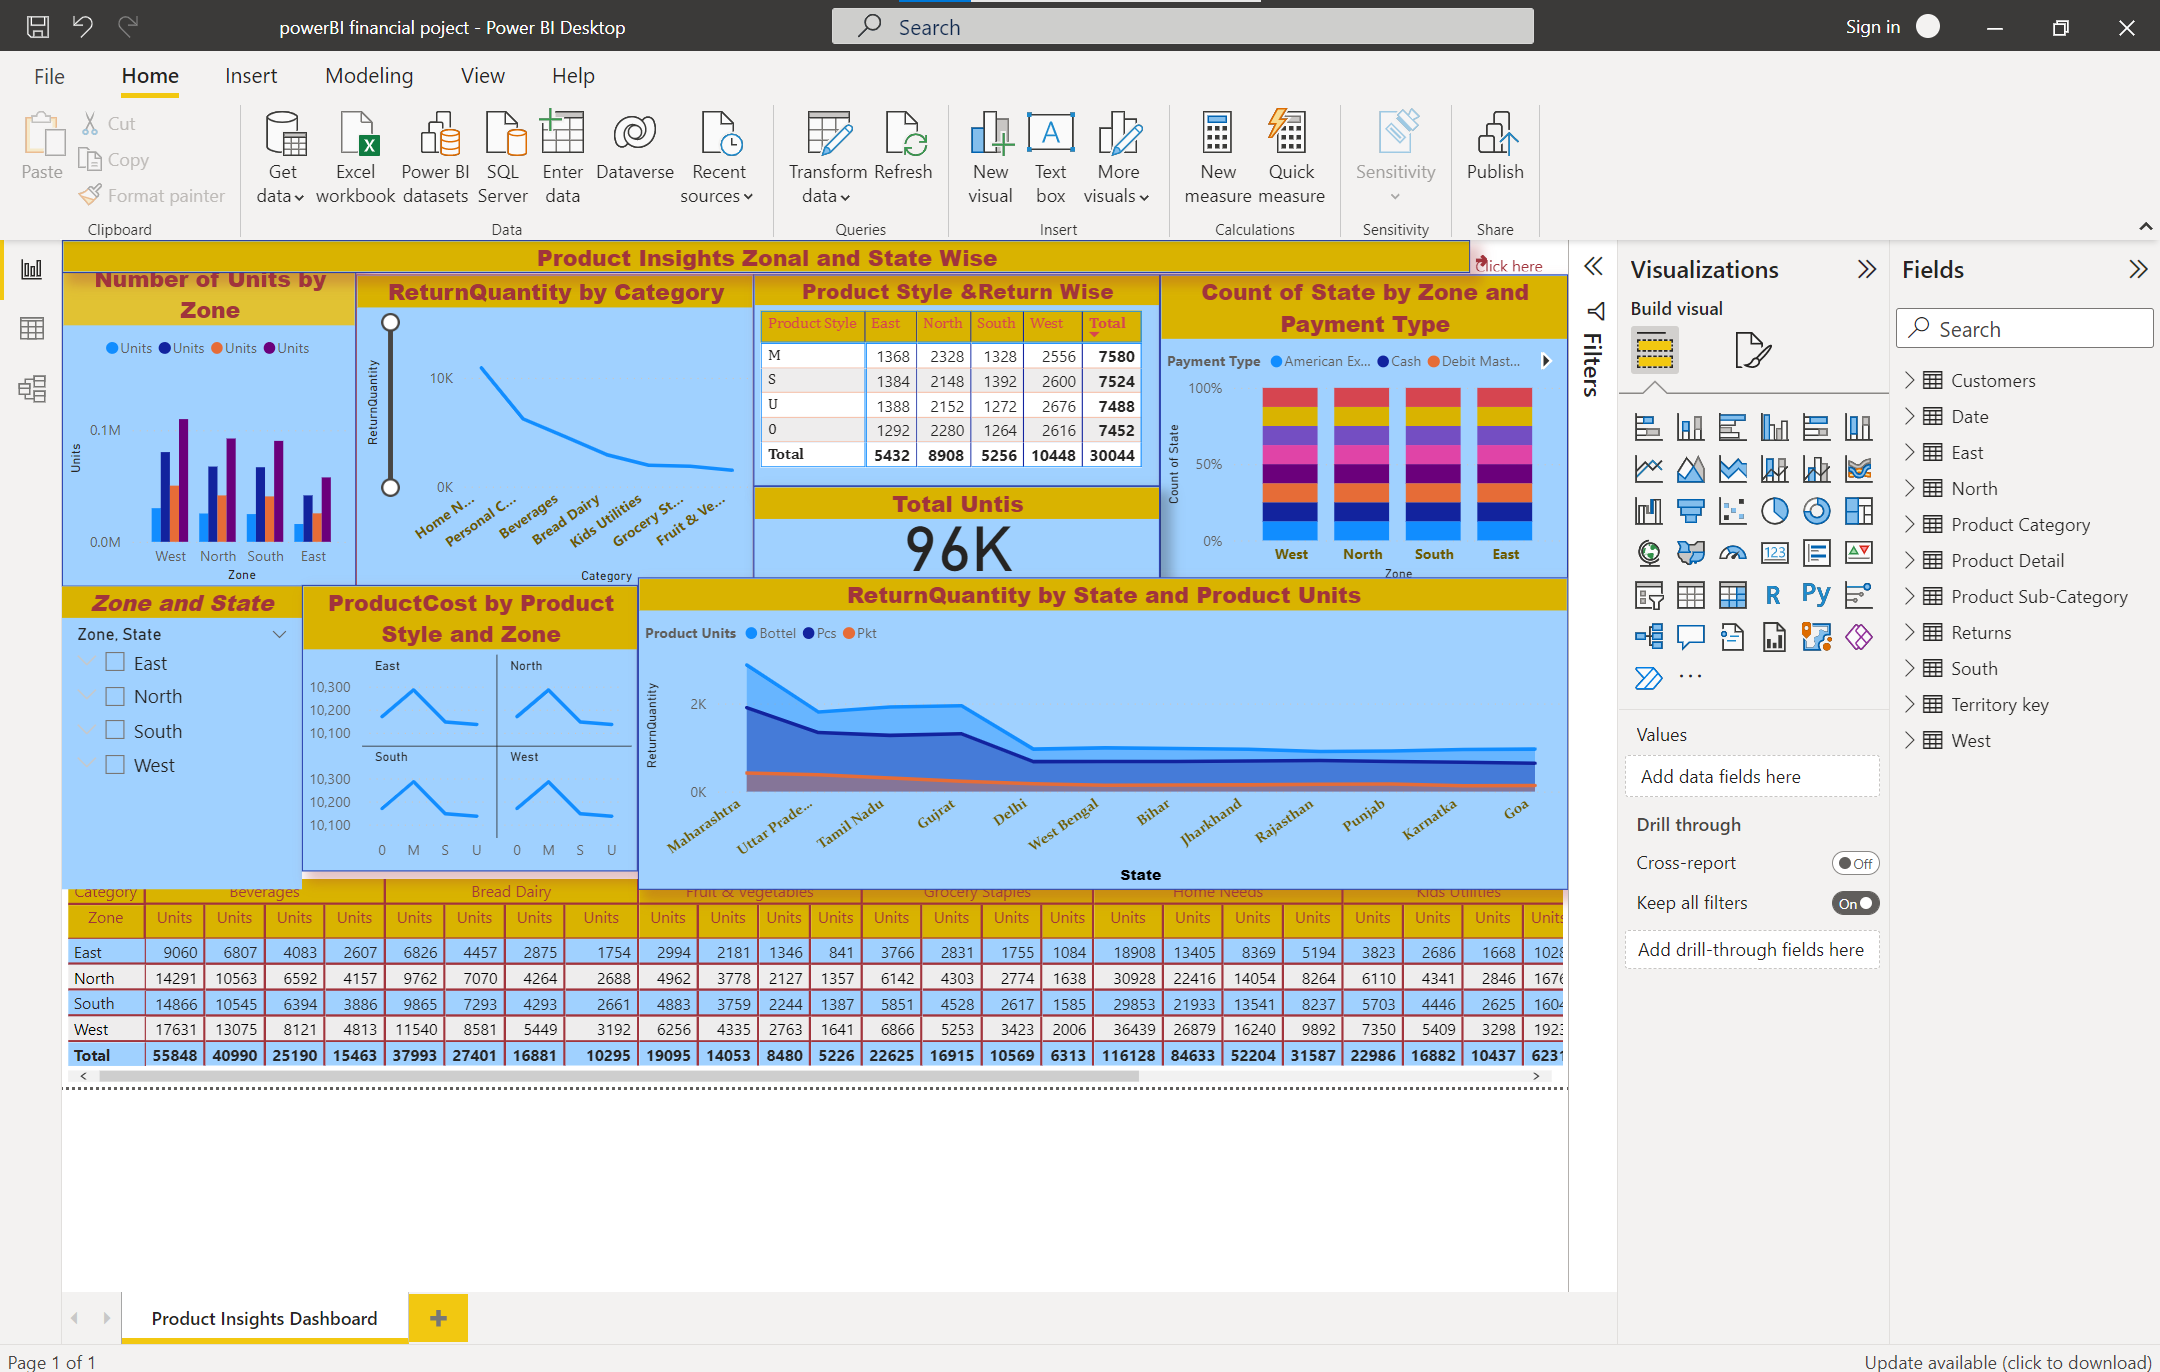

Layout of this report page (visuals, bound fields, positions):
{"tool":"powerbi","page":{"name":"Product  Insights Dashboard","canvas":[1280,720],"ordinal":0},"visuals":[{"type":"clusteredColumnChart","title":"Number of  Units by Zone","fields":{"Category":["Territory key.Zone"],"Y":["Sum(East.Units)","Sum(North.Units)","Sum(South.Units)","Sum(West.Units)"]},"box":[0,29.3,258.8,265.2],"z":0},{"type":"lineChart","fields":{"Y":["Sum(Returns.ReturnQuantity)"],"Category":["Product Category.Category"]},"box":[258.8,29.3,328.9,265.2],"z":1000},{"type":"pivotTable","title":"Product Style &Return Wise","fields":{"Rows":["Product Detail.Product Style"],"Values":["Sum(Returns.ReturnQuantity)"],"Columns":["Territory key.Zone"]},"box":[587.7,29.3,345.5,179.8],"z":2000},{"type":"hundredPercentStackedColumnChart","fields":{"Category":["Territory key.Zone"],"Series":["North.Payment Type"],"Y":["CountNonNull(Territory key.State)"]},"box":[933.2,29.3,346.8,263.9],"z":3000},{"type":"pivotTable","fields":{"Rows":["Territory key.Zone"],"Values":["Sum(West.Units)","Sum(North.Units)","Sum(South.Units)","Sum(East.Units)"],"Columns":["Product Category.Category"]},"box":[0,538,1280,182.3],"z":4000},{"type":"slicer","title":"Zone and State","fields":{"Values":["Territory key.Zone","Territory key.State"]},"box":[0,294.5,204,243.5],"z":5000},{"type":"card","title":"Total Untis","fields":{"Values":["Sum(Returns.ReturnQuantity)"]},"box":[587.7,209.1,345.5,85.4],"z":6000},{"type":"shape","title":"Product Insights Zonal and State Wise","box":[0,0,1196.7,27.8],"z":7000},{"type":"actionButton","box":[1196.7,0,83.3,35.6],"z":8000},{"type":"lineChart","fields":{"Y":["Sum(Product Detail.ProductCost)"],"Rows":["Territory key.Zone"],"Category":["Product Detail.Product Style"]},"box":[204,293.2,285.6,244.8],"z":9000},{"type":"areaChart","fields":{"Y":["Sum(Returns.ReturnQuantity)"],"Category":["Territory key.State"],"Series":["Product Detail.Product Units"]},"box":[489.6,286.9,790.4,251.2],"z":10000}]}

Visuals, with their boxes on the page's 1280x720 design canvas (x1, y1, x2, y2). These are canvas units, not pixel positions in the 2160x1372 screenshot, which may show the page scaled, cropped or inside an application window:
"Number of  Units by Zone" clusteredColumnChart: select_region(0, 29, 259, 294)
lineChart - Sum(Returns.ReturnQuantity) x Product Category.Category: select_region(259, 29, 588, 294)
"Product Style &Return Wise" pivotTable: select_region(588, 29, 933, 209)
hundredPercentStackedColumnChart - Territory key.Zone x North.Payment Type: select_region(933, 29, 1280, 293)
pivotTable - Territory key.Zone x Sum(West.Units): select_region(0, 538, 1280, 720)
"Zone and State" slicer: select_region(0, 294, 204, 538)
"Total Untis" card: select_region(588, 209, 933, 294)
"Product Insights Zonal and State Wise" shape: select_region(0, 0, 1197, 28)
actionButton: select_region(1197, 0, 1280, 36)
lineChart - Sum(Product Detail.ProductCost) x Territory key.Zone: select_region(204, 293, 490, 538)
areaChart - Sum(Returns.ReturnQuantity) x Territory key.State: select_region(490, 287, 1280, 538)
